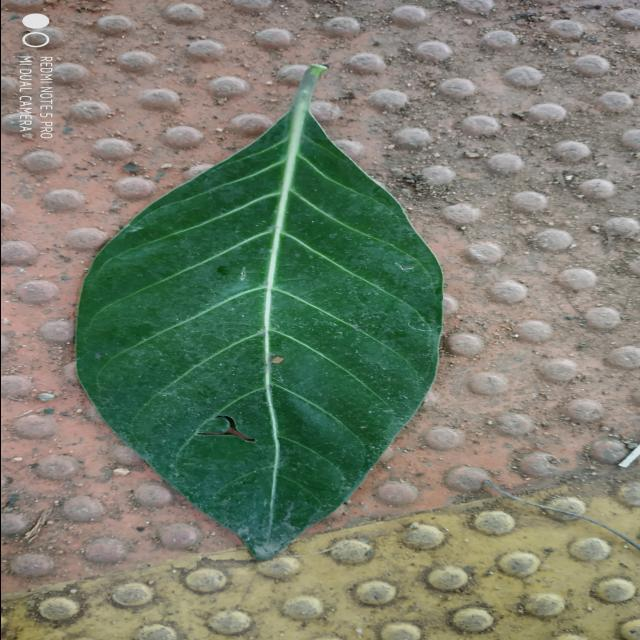leaf: (73, 62, 444, 561)
